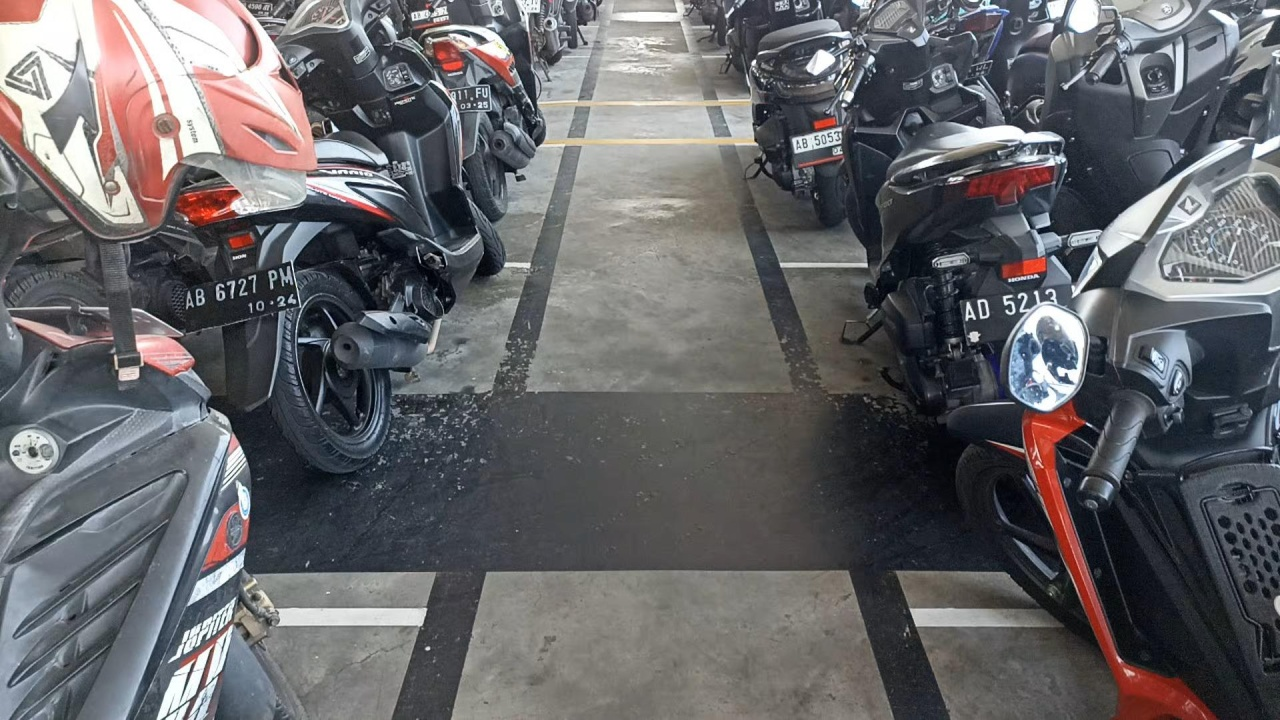plate: (183, 260, 302, 334)
